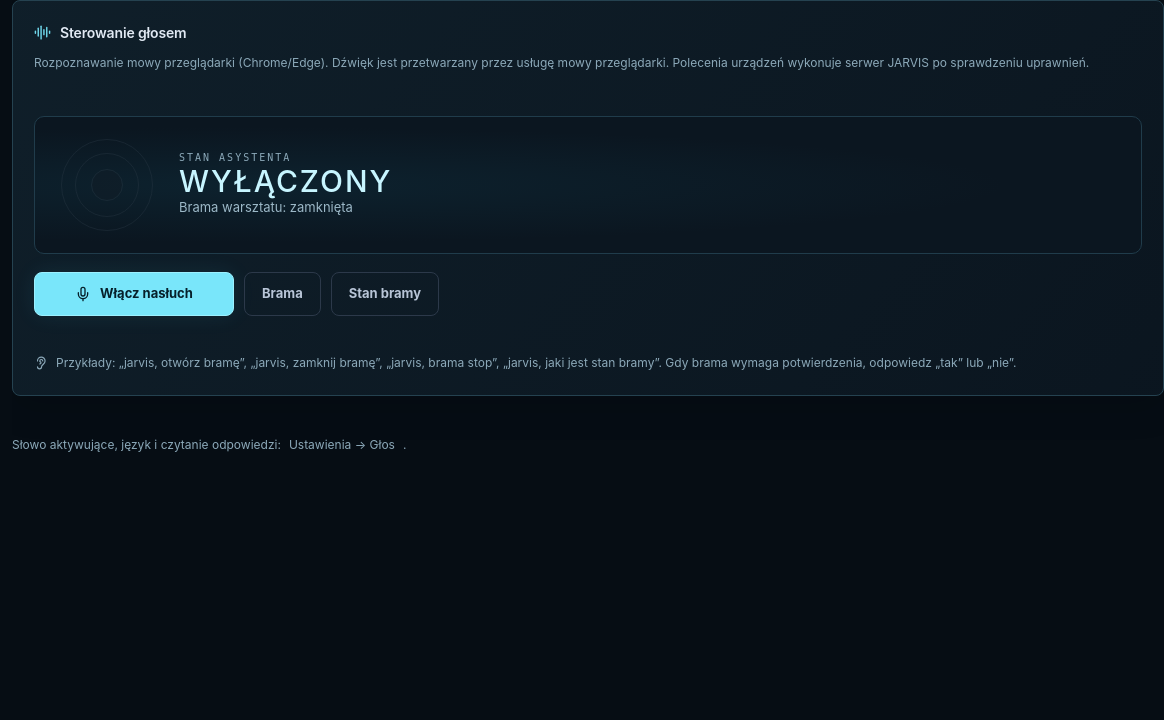
Test: Voice panel › starts browser recognition on demand and sends a wake-word gate command as voice chat
This screenshot has width=1164, height=720.
Expected: the text "Brama warsztatu: zamknięta" is shown, [179, 199, 353, 215]
Click the button "Włącz nasłuch". click: (134, 294)
box: [34, 272, 234, 316]
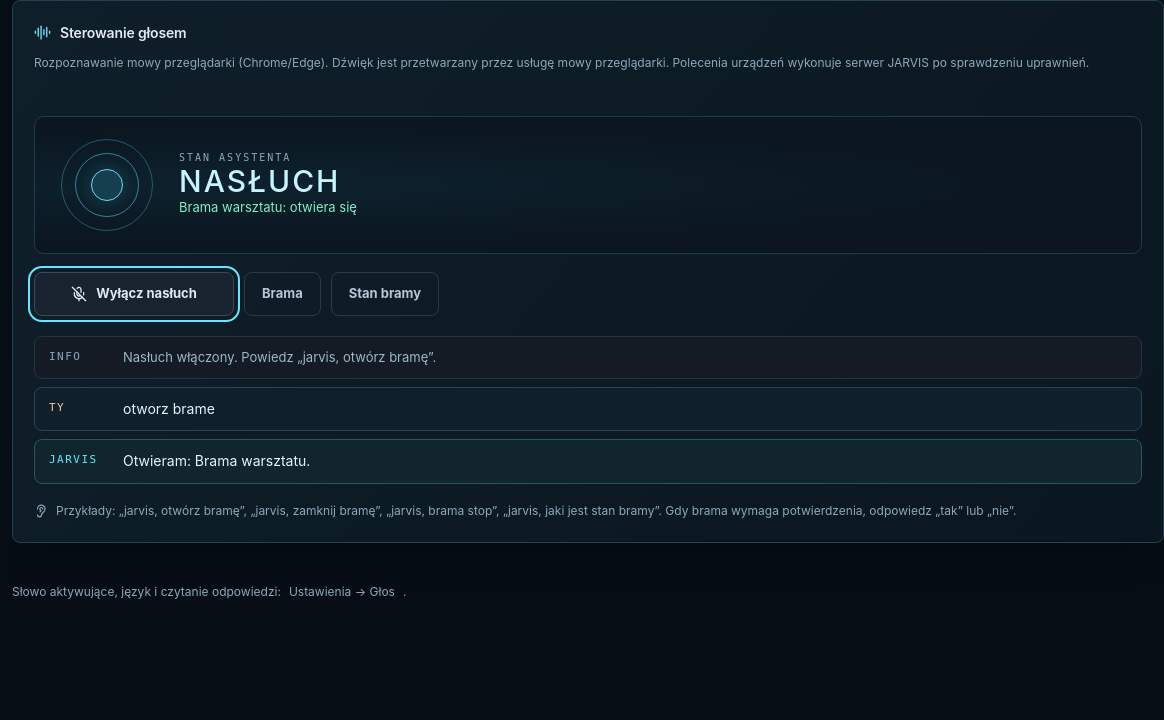
Now the list item "Otwieram: Brama warsztatu." is shown, box [123, 452, 310, 469]
Now the text "Brama warsztatu: otwiera się" is shown, box [179, 199, 357, 219]
